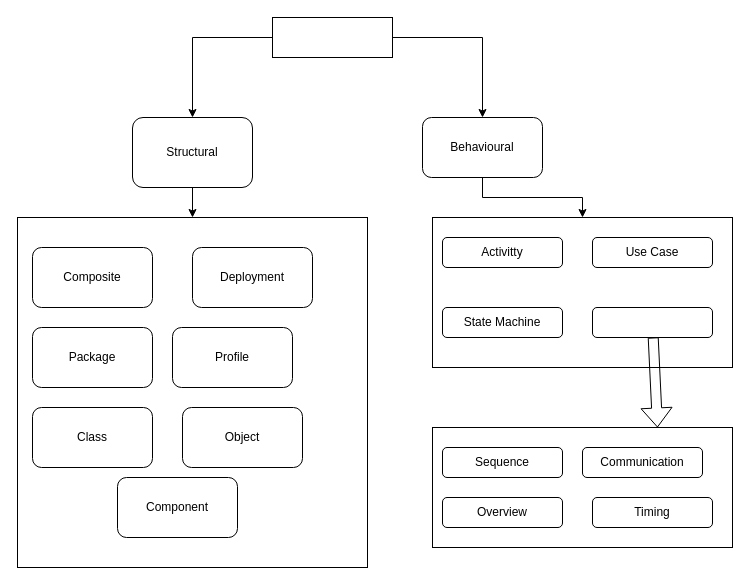
Image size: 750x585. Some labels were removed from this diagram. Here are the shapes that lost their labels. From the top down, the box of each, then its label:
(272, 16, 392, 58): UML
(592, 306, 712, 338): Interaction
